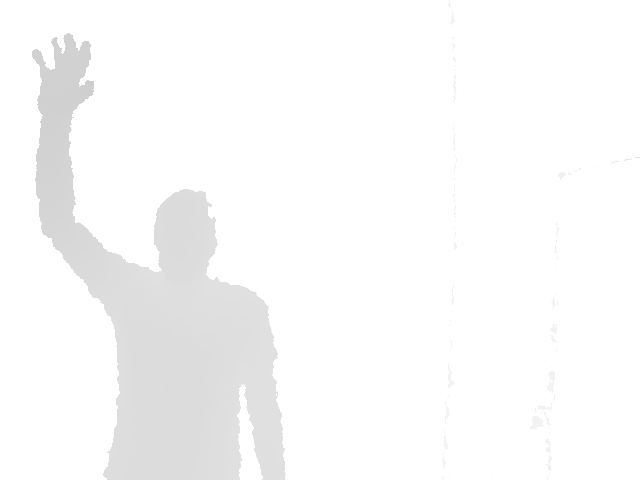hand: (31, 32, 96, 117)
head: (153, 188, 218, 281)
person: (31, 32, 288, 480)
